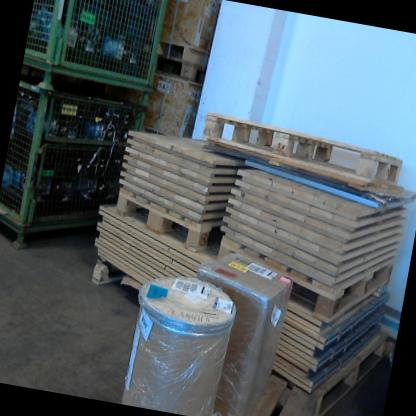pallet: (190, 105, 413, 195), (215, 224, 397, 321), (100, 184, 220, 260), (294, 321, 387, 416), (238, 367, 328, 416), (79, 254, 144, 309), (148, 52, 206, 92)
stillage: (0, 69, 157, 271), (25, 0, 169, 94)
